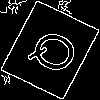Q: (25, 25, 90, 83)
